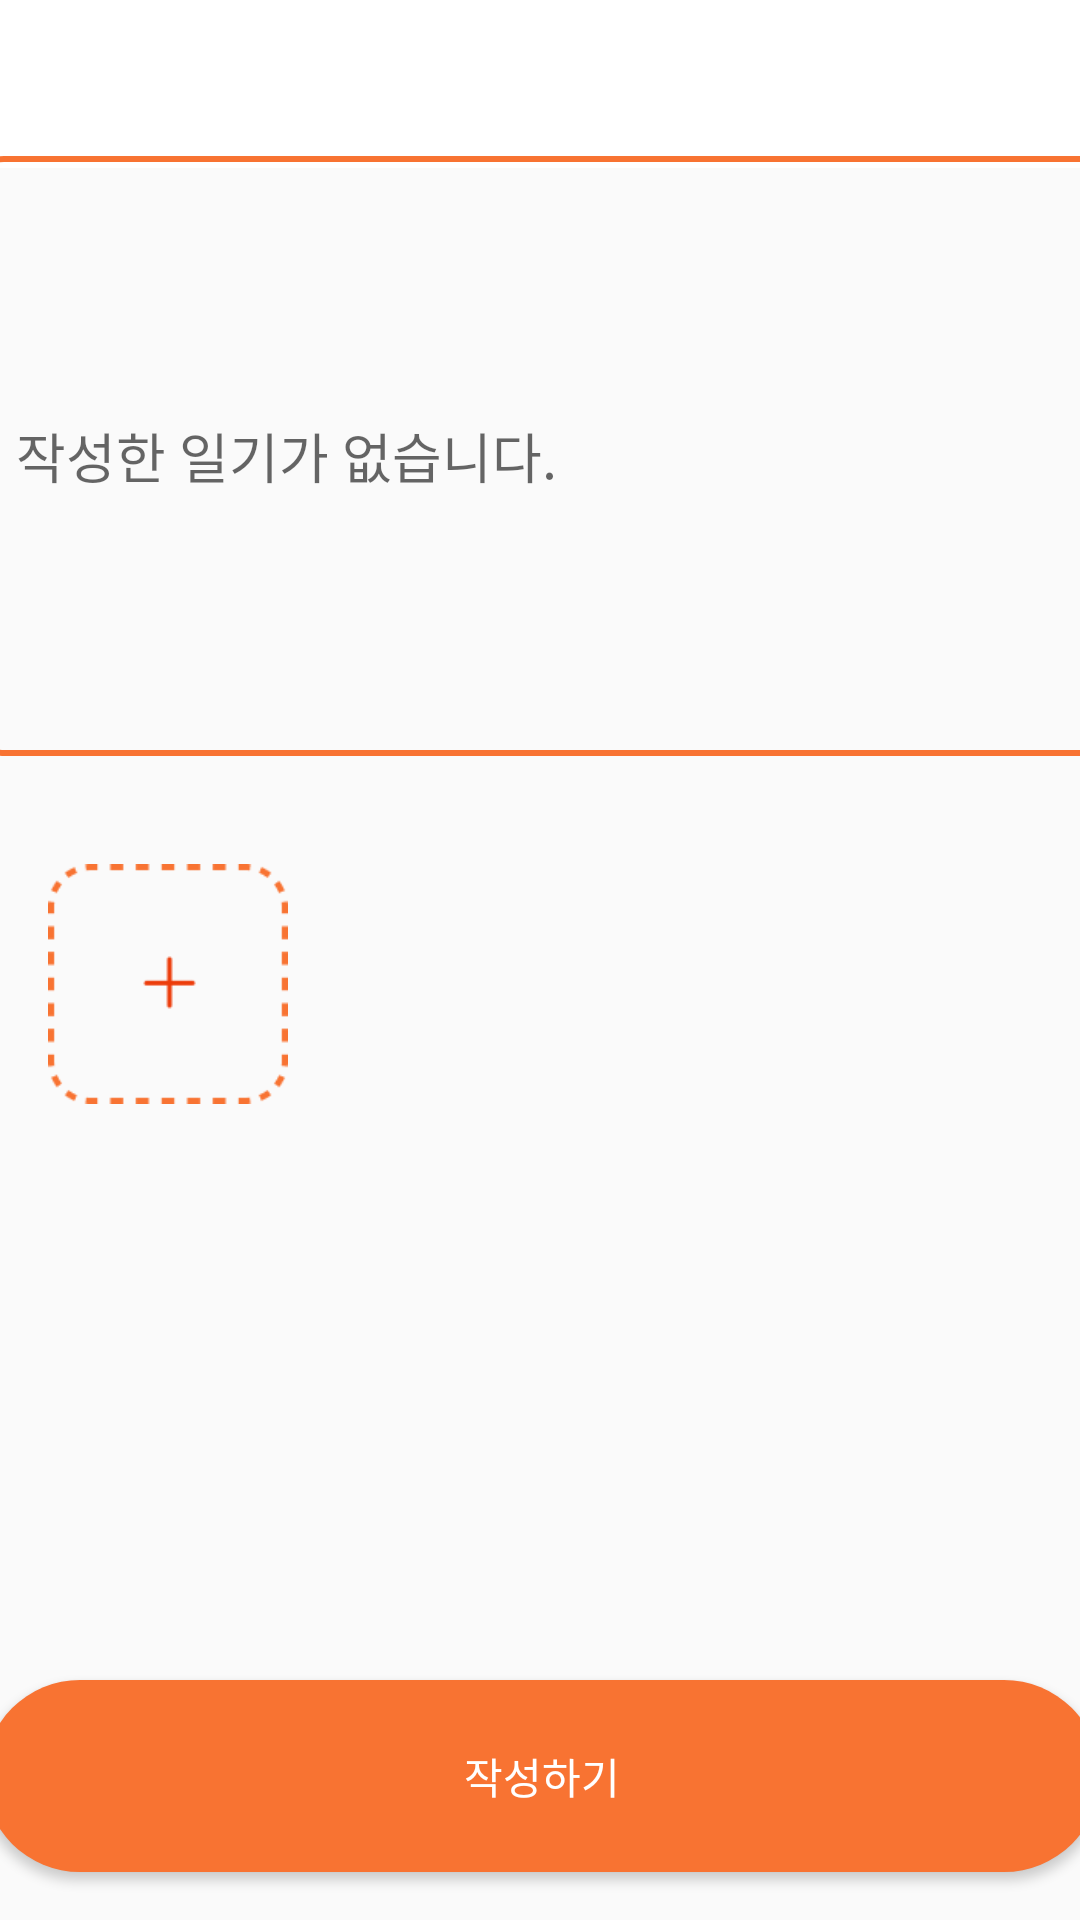

Locate icon controls on the screen. Image size 1080 x 1920, boxes as [x1,y1,x2,y2].
plus: [48,864,288,1104]
